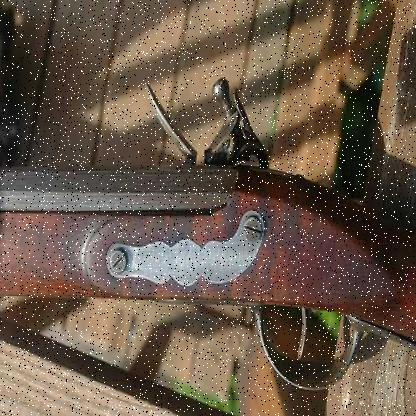rifle: (0, 86, 415, 415)
